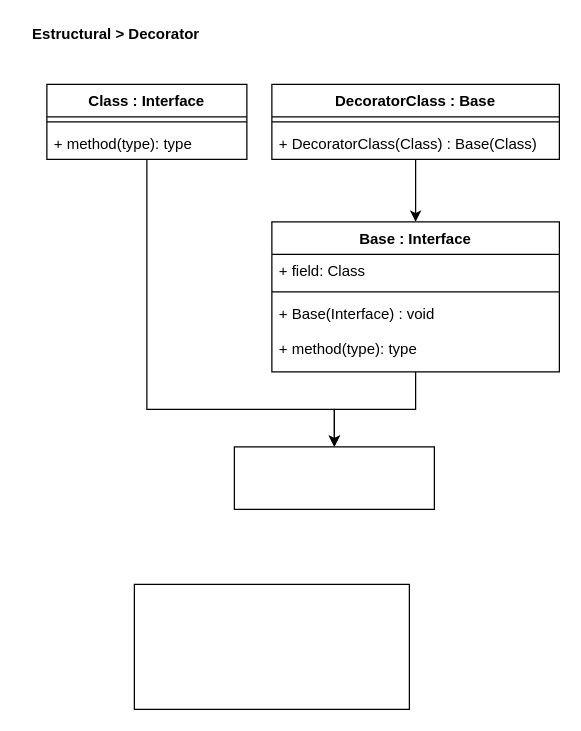
Some shapes in this 581 by 731 pixel diagram are drawn without their labels. The shapes that lost their labels are listed below. From the top down, each one's centre as x and y in pixels, then its label:
At point (333, 477): "«interface» Interface".
At point (271, 646): "var class = new DecoratorClass ( new Class() ); class.DoSomething();".
